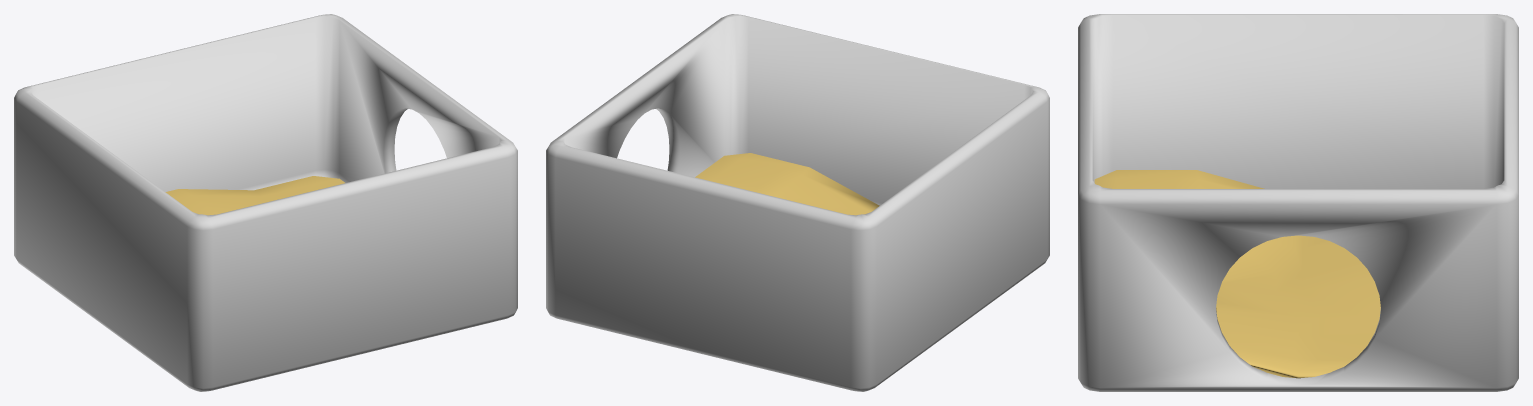
Rendered from hamsterBathroom2.fbx.
3 views of the same model, side by side, from view 1: azimuth 30°, elevation 25°; view 2: azimuth 150°, elevation 25°; view 3: azimuth 270°, elevation 25° (orthographic). The views are drawn at different scales.
Parts seen in each view (by area): view 1: Cube, Cube.001; view 2: Cube, Cube.001; view 3: Cube, Cube.001.
Boxes of the visible parts, x1=… form: Cube: x1=14, y1=14, x2=517, y2=391; Cube.001: x1=165, y1=176, x2=344, y2=215; Cube: x1=546, y1=14, x2=1049, y2=391; Cube.001: x1=695, y1=153, x2=879, y2=215; Cube: x1=1078, y1=14, x2=1518, y2=391; Cube.001: x1=1094, y1=170, x2=1380, y2=378.
Size of the model in its own units: 404 by 206 by 404.
